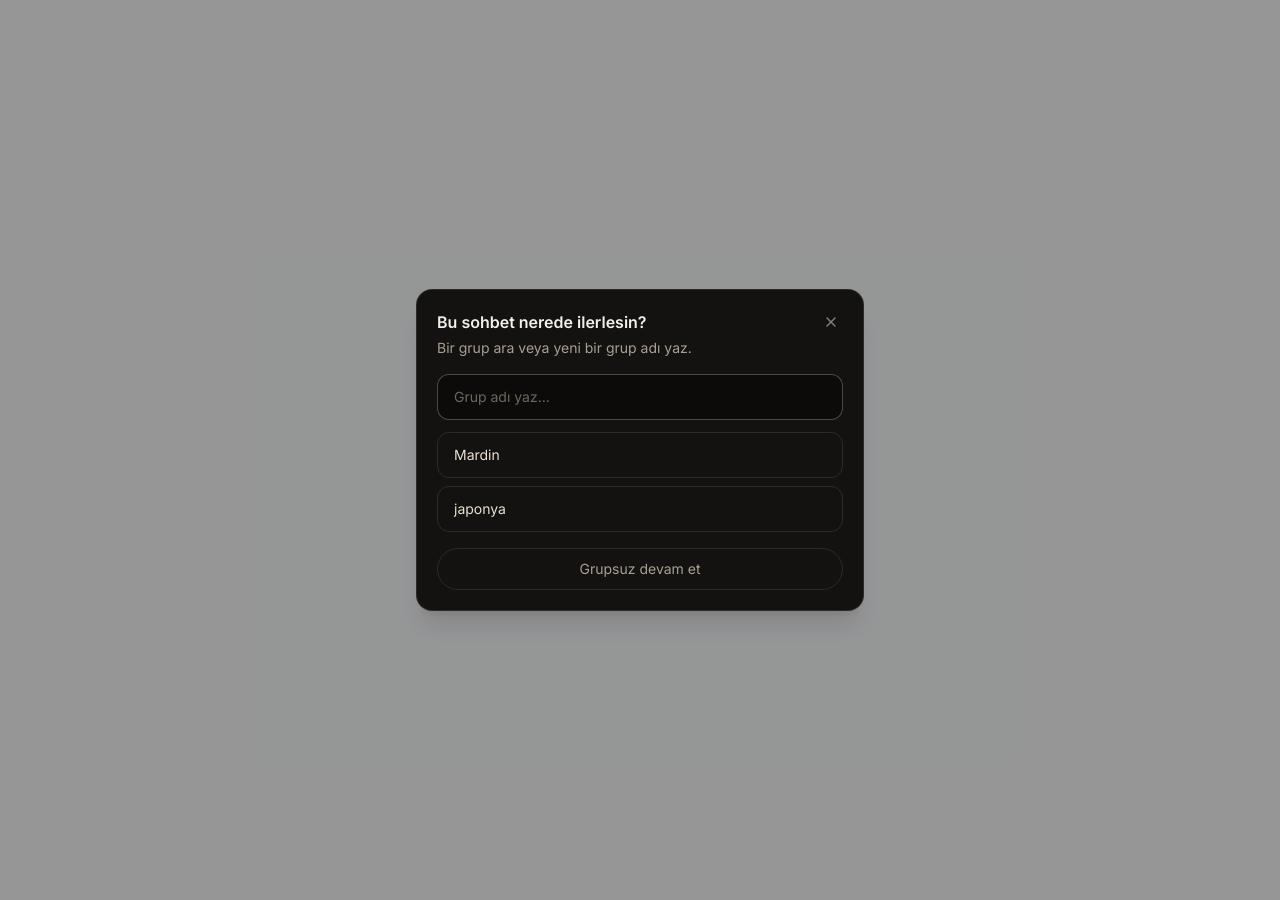
Test: New chat group picker UX › typeahead matches existing groups without POSTing
Type "mar" into the field with test id "new-chat-group-search-input".
click(640, 397); type("mar")  # box [437,374,843,420]
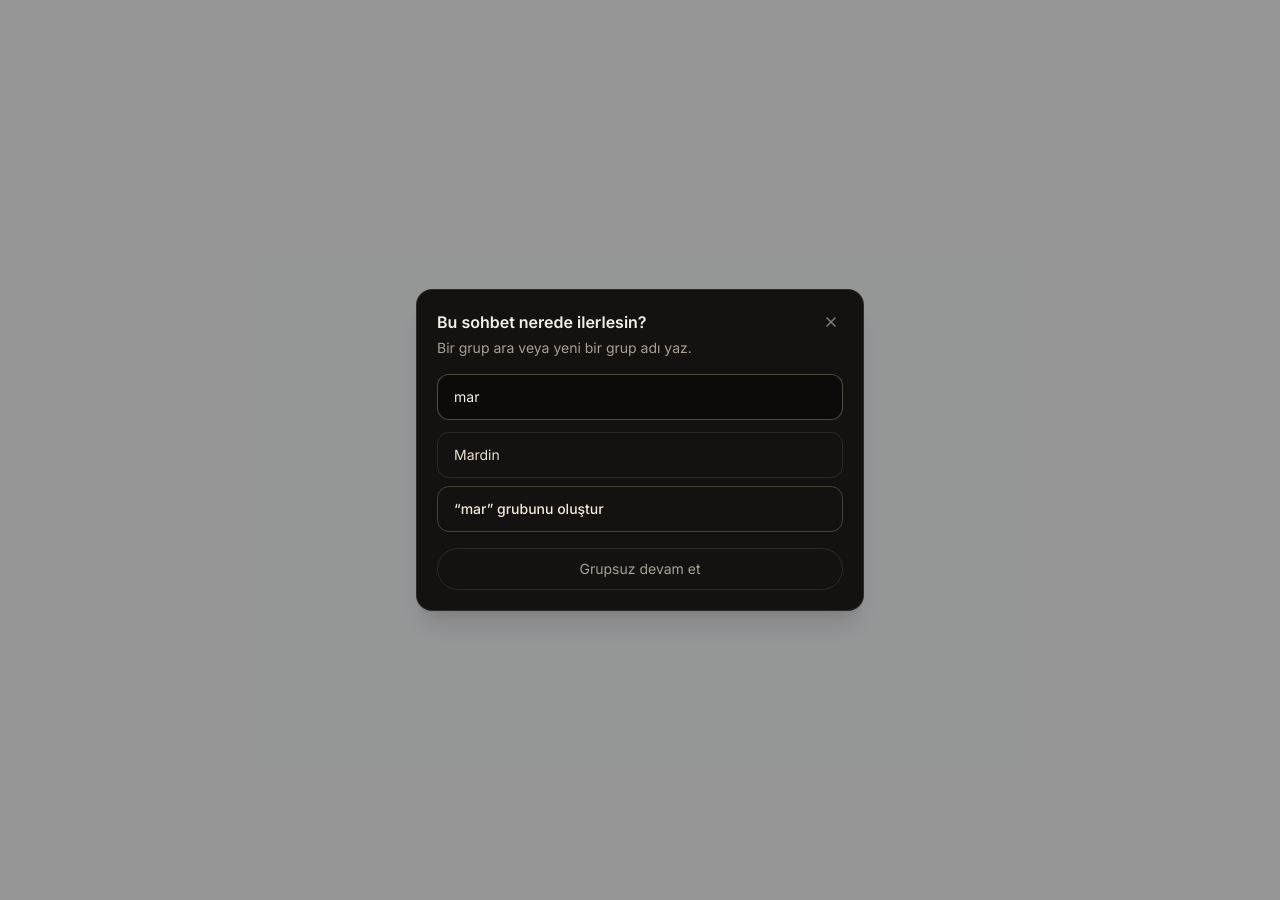
Check: the button with test id "new-chat-group-existing-g1" is shown, box [437,432,843,478]
Check: the button with test id "new-chat-group-existing-g2" is gone
